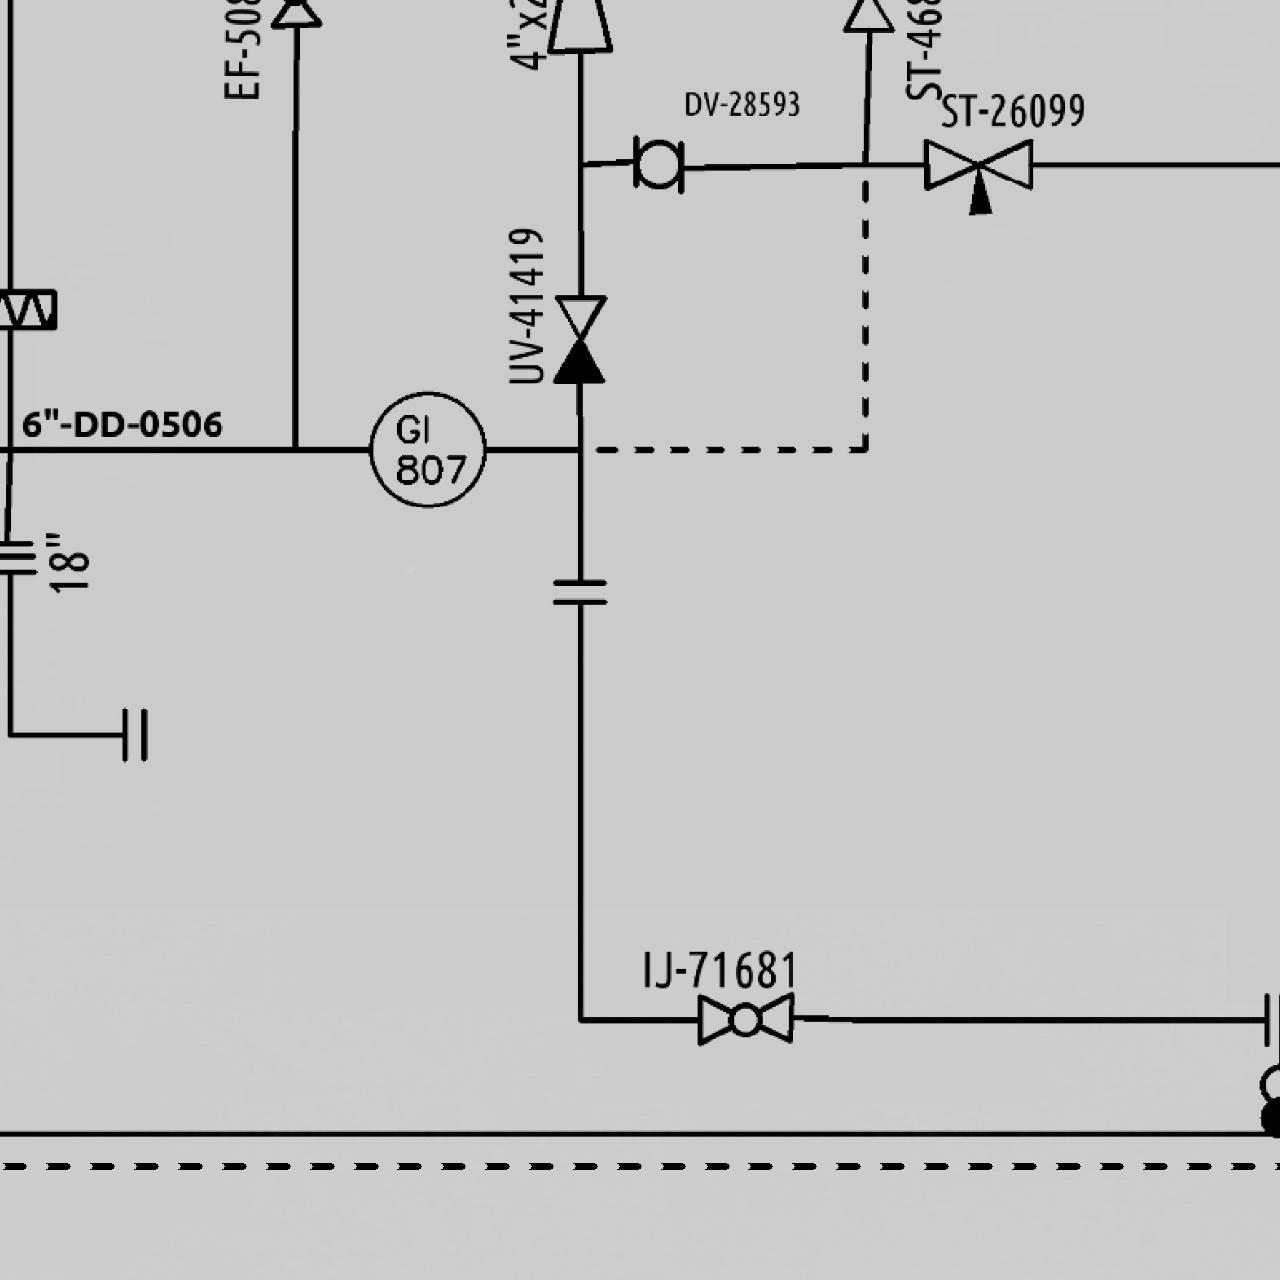Half closed valve: (549, 290, 610, 387)
